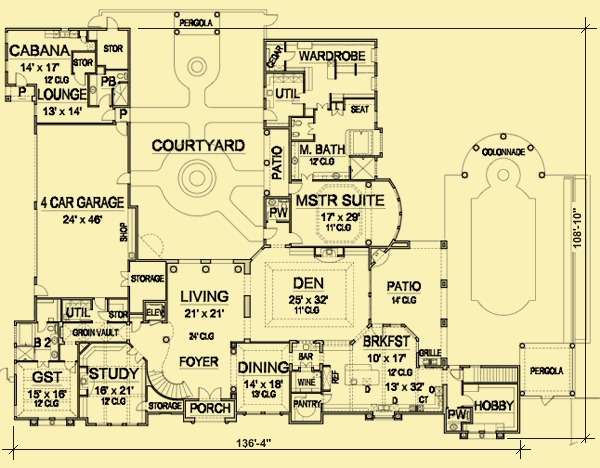door: (196, 386, 225, 400), (128, 346, 144, 364), (13, 71, 29, 87), (115, 171, 132, 186), (119, 271, 132, 289), (114, 121, 129, 136), (265, 12, 280, 27), (100, 108, 117, 121), (35, 283, 50, 297), (291, 230, 304, 246), (104, 16, 120, 29), (264, 107, 278, 121), (264, 226, 278, 239), (71, 73, 86, 85), (130, 321, 143, 334), (307, 120, 316, 136), (285, 50, 298, 61)
large_sink: (112, 70, 128, 82), (46, 322, 61, 333)
stairs: (145, 368, 191, 402), (463, 366, 521, 386)
